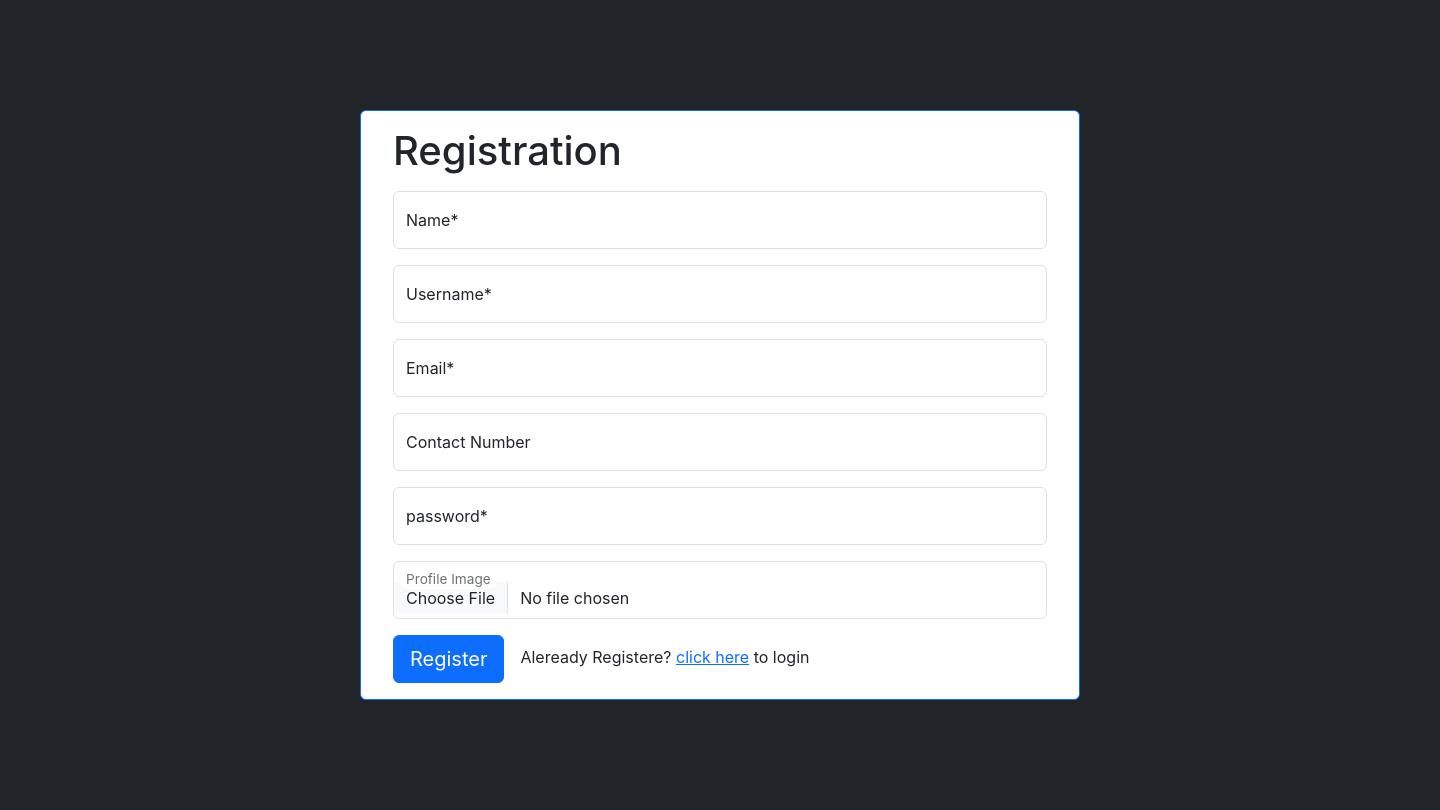
Test: signup component is rendered correctly › name input validation after entering special characters
This screenshot has width=1440, height=810.
Click the field with placeholder "Enter name" at (720, 220), box [393,191,1047,249]
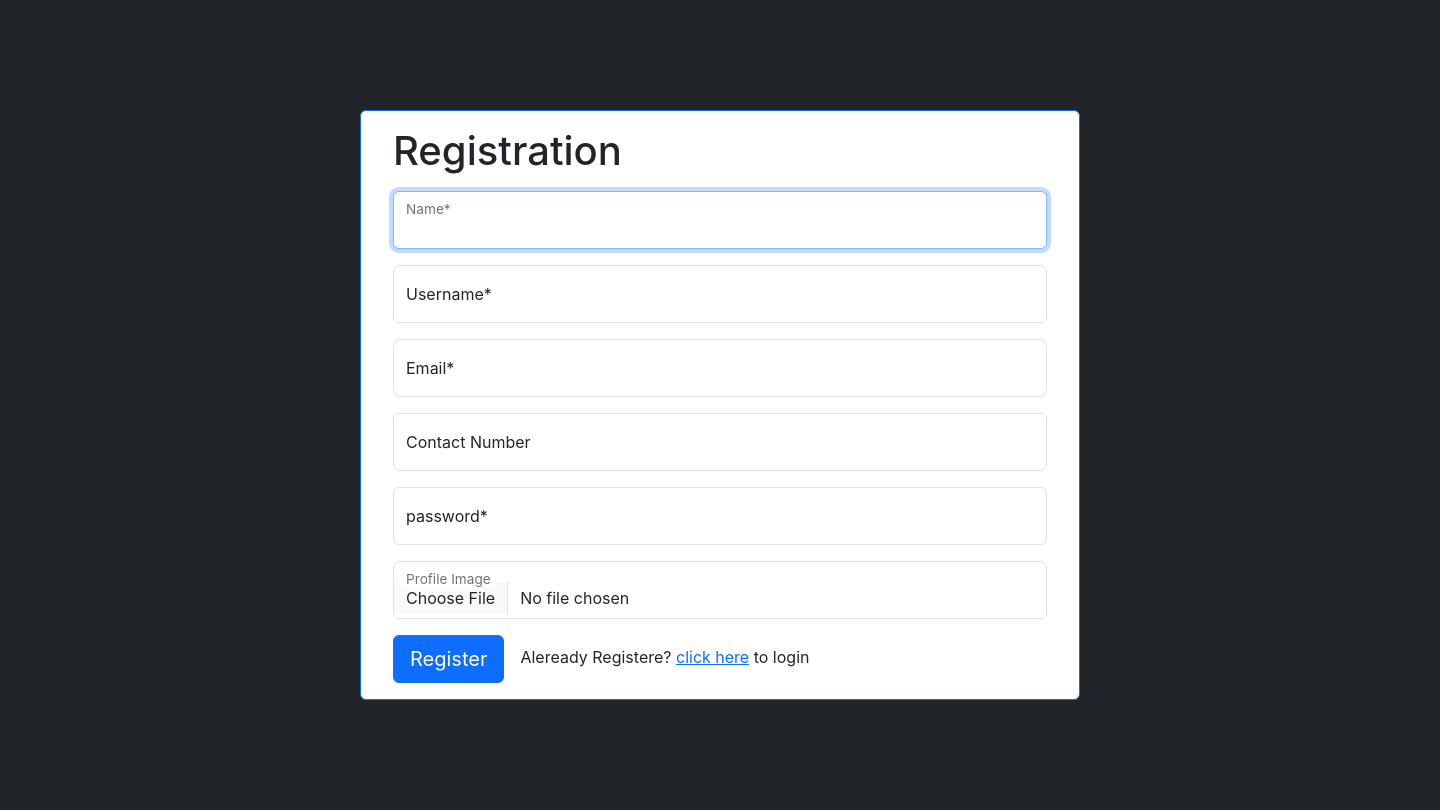
Type "aaaaa@12312" into the field with placeholder "Enter name" at (720, 220), box [393,191,1047,249]
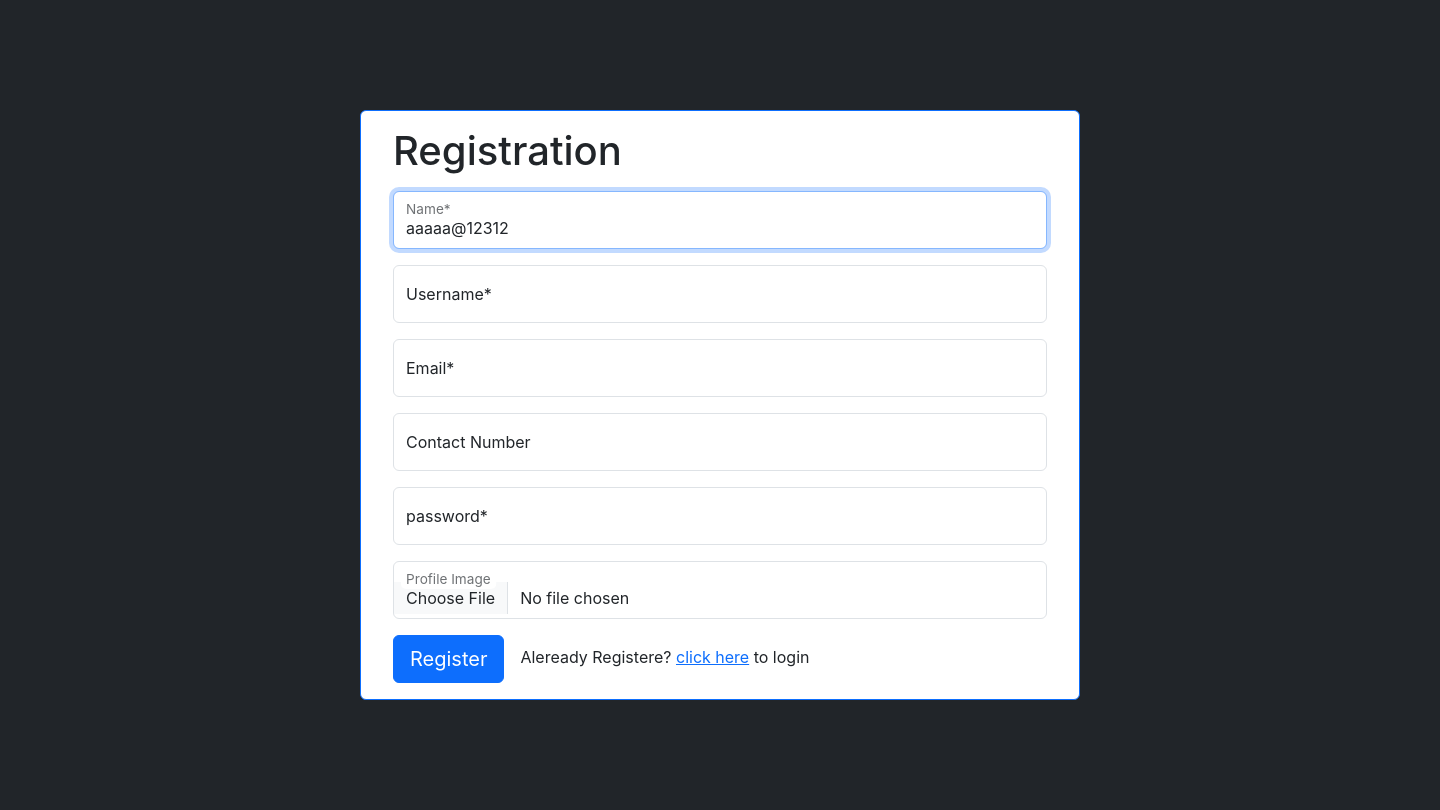
Click the element that starts with "Registration" at (720, 405), box [0,0,1439,809]
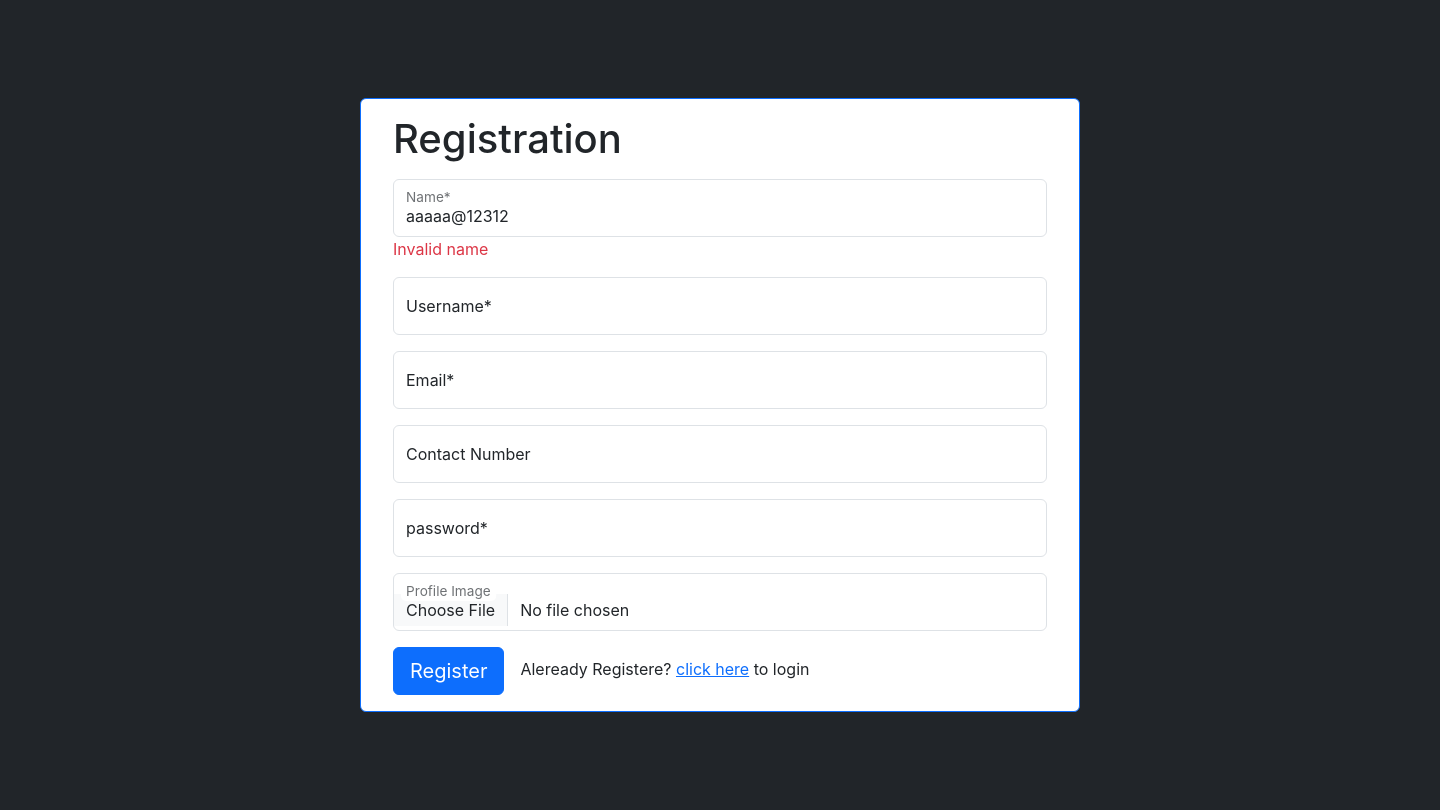
expect the text "Invalid name" is shown: met, box [393,239,488,259]
